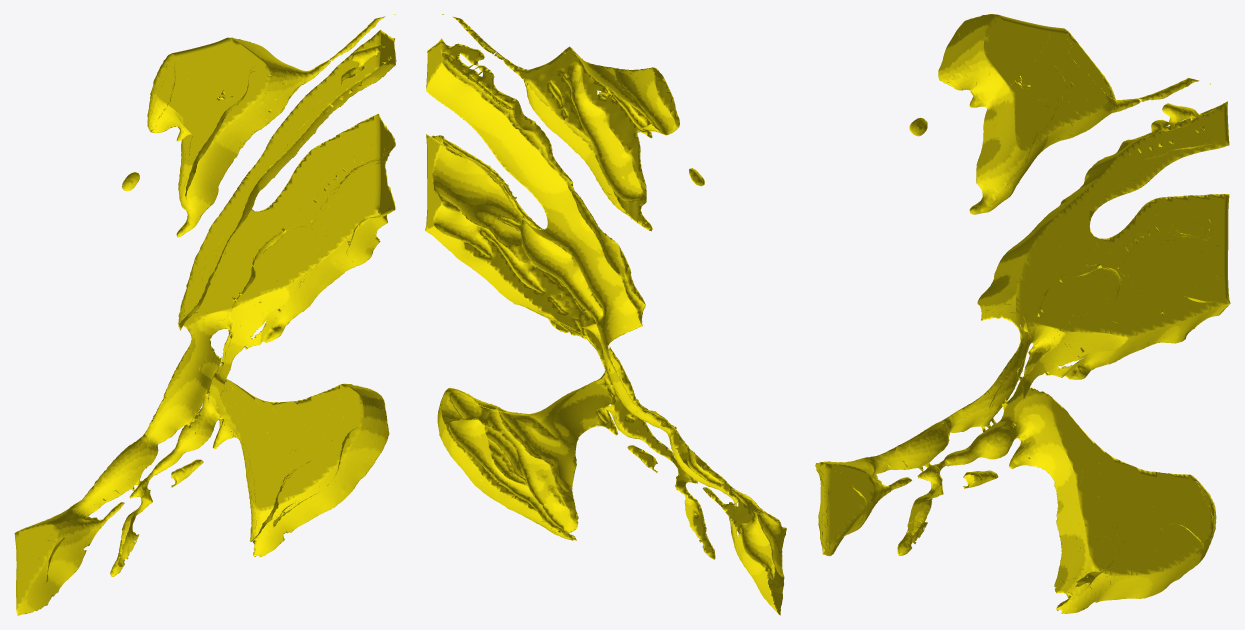
3 renders of one model, left to right at view 1: azimuth 30°, elevation 25°; view 2: azimuth 150°, elevation 25°; view 3: azimuth 330°, elevation 25°, orthographic. The views are drawn at different scales.
Visible parts, largest first — view 1: Switch_Switch_osgPicked_gmeGeoEntityGeode_Geometry_0, Switch_Switch_osgPicked_gmeGeoEntityGeode_Geometry_Geometry_; view 2: Switch_Switch_osgPicked_gmeGeoEntityGeode_Geometry_0, Switch_Switch_osgPicked_gmeGeoEntityGeode_Geometry_Geometry_; view 3: Switch_Switch_osgPicked_gmeGeoEntityGeode_Geometry_0, Switch_Switch_osgPicked_gmeGeoEntityGeode_Geometry_Geometry_.
Part boxes in pixels (x1,y1,x2,y2): Switch_Switch_osgPicked_gmeGeoEntityGeode_Geometry_0: (14, 30, 396, 615); Switch_Switch_osgPicked_gmeGeoEntityGeode_Geometry_Geometry_: (147, 37, 330, 237); Switch_Switch_osgPicked_gmeGeoEntityGeode_Geometry_0: (425, 38, 786, 615); Switch_Switch_osgPicked_gmeGeoEntityGeode_Geometry_Geometry_: (503, 46, 679, 230); Switch_Switch_osgPicked_gmeGeoEntityGeode_Geometry_0: (815, 101, 1230, 613); Switch_Switch_osgPicked_gmeGeoEntityGeode_Geometry_Geometry_: (938, 14, 1140, 214).
Size of what is drawn, in the model's own units: 38520 by 52933 by 3746.
